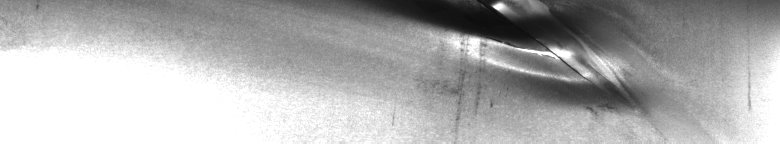ke: (384, 4, 637, 120)
